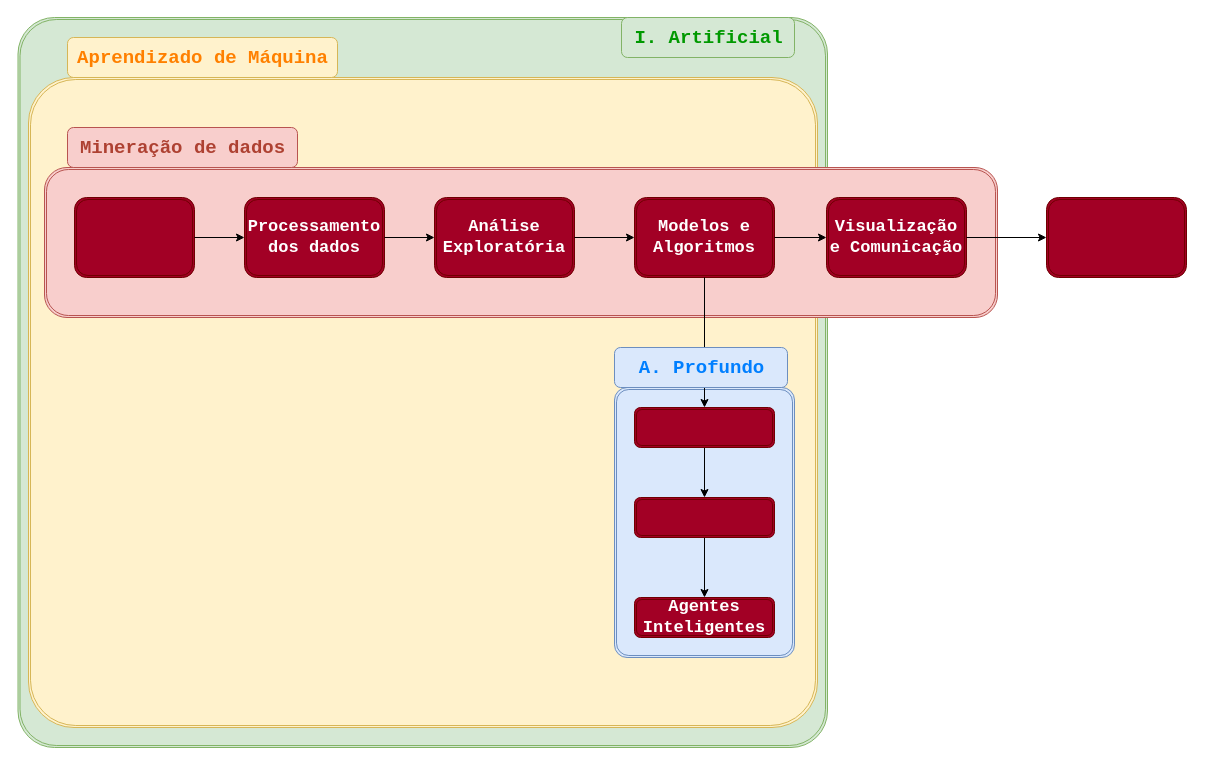
Image size: 1214x765. Some labels were removed from this diagram. Here are the shapes that lost their labels. From the top down, the centre of each, then its label:
[134,237]: Coleta de dados
[1116,237]: Toma de Decisões
[704,427]: Redes Neurais
[704,517]: Produção de Dados
